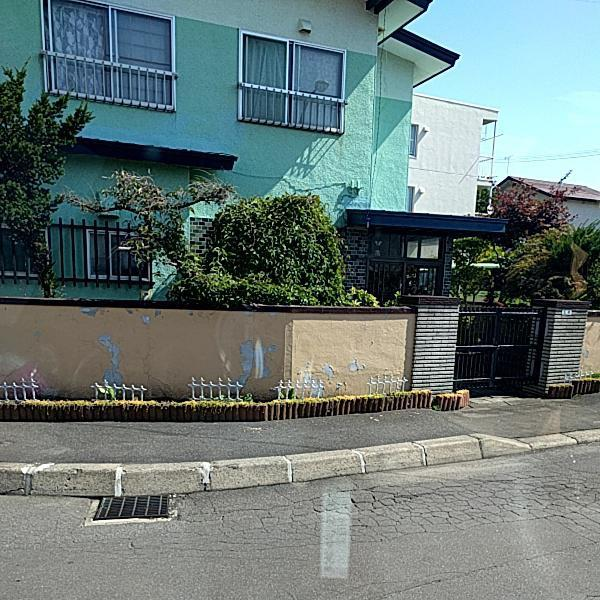D20: (106, 452, 599, 540)
